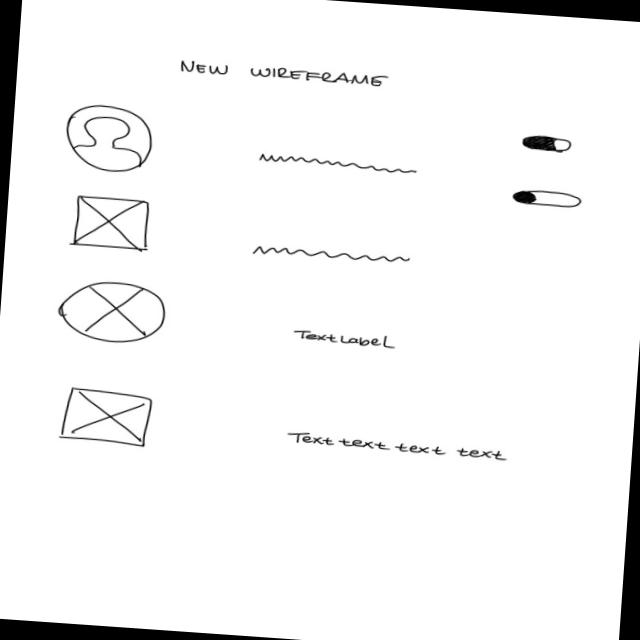image: (55, 278, 168, 346), (62, 101, 156, 176), (55, 384, 154, 448), (69, 192, 154, 253)
label: (284, 428, 510, 462), (176, 58, 391, 88), (290, 328, 400, 350)
text: (256, 151, 420, 176), (249, 243, 411, 266)
toggle: (510, 186, 582, 210), (518, 133, 574, 154)
